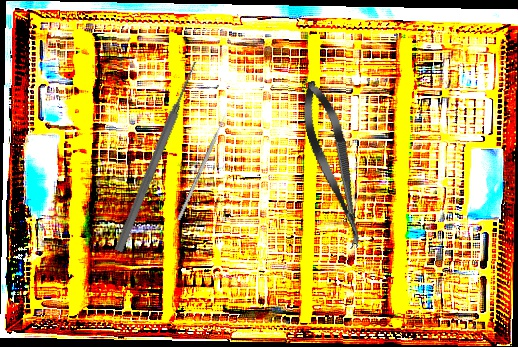Micro Scissor: (293, 77, 375, 252)
Pusher: (112, 59, 202, 254), (176, 109, 230, 221)
